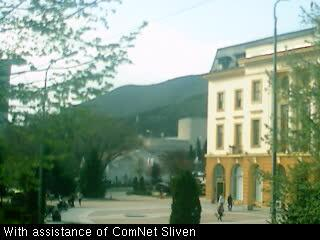person: (216, 202, 224, 221), (227, 194, 234, 212), (77, 191, 84, 208), (68, 191, 75, 207), (218, 192, 224, 209), (57, 193, 63, 206), (159, 187, 164, 200)
